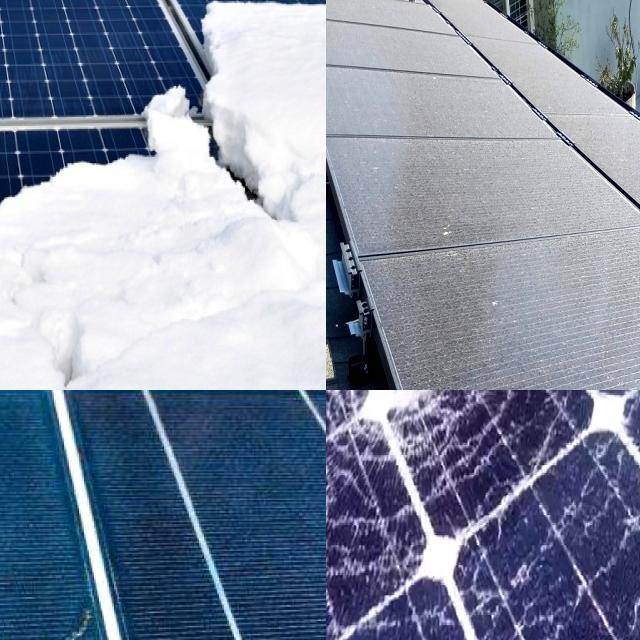dust: (408, 261, 640, 389), (344, 146, 570, 237), (326, 78, 506, 128), (326, 31, 460, 71), (326, 0, 423, 24)
hotspot: (341, 390, 480, 479)
panel: (0, 126, 179, 390), (184, 0, 326, 228), (0, 0, 89, 329), (0, 0, 120, 78), (124, 0, 326, 41), (144, 0, 326, 43), (0, 0, 76, 22)
